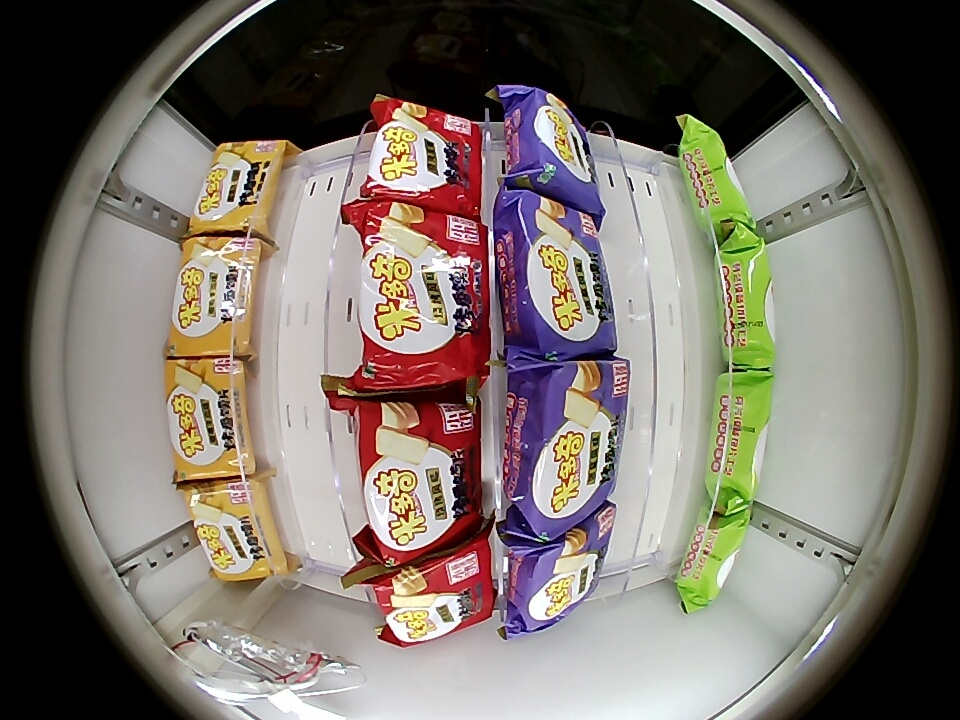kaomo_gali: (168, 237, 260, 356), (165, 359, 255, 479), (187, 477, 286, 580), (190, 141, 286, 236)
kaomo_jiaoyan: (501, 358, 630, 541), (494, 192, 619, 359), (500, 503, 615, 636), (500, 87, 604, 216)
kaomo_shaokao: (354, 209, 490, 389), (357, 397, 484, 564), (364, 101, 482, 216), (374, 538, 495, 647)
kaomo_xiangcon: (679, 123, 755, 242), (705, 372, 773, 501), (676, 496, 751, 608), (714, 238, 775, 369)
